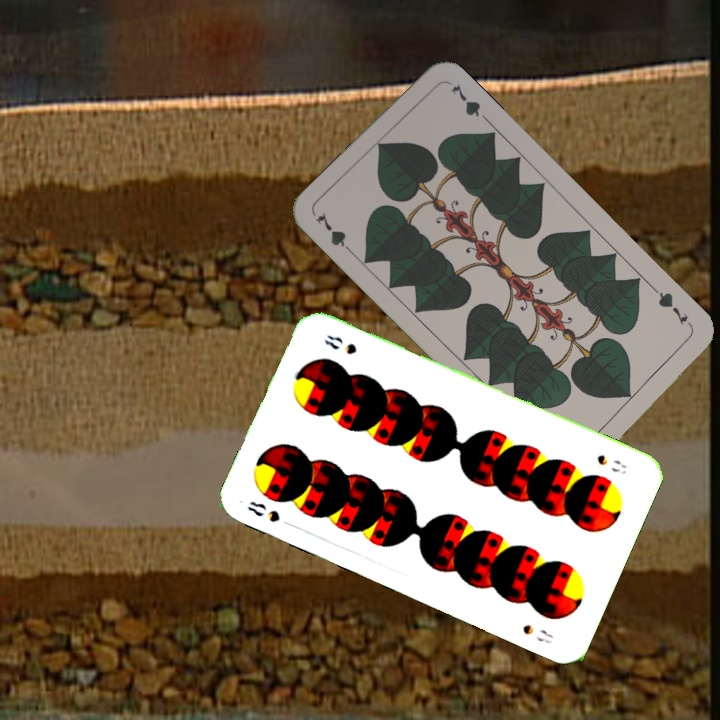G7: (312, 208, 358, 258), (649, 284, 696, 331)
S8: (243, 496, 283, 525), (593, 450, 629, 477)
